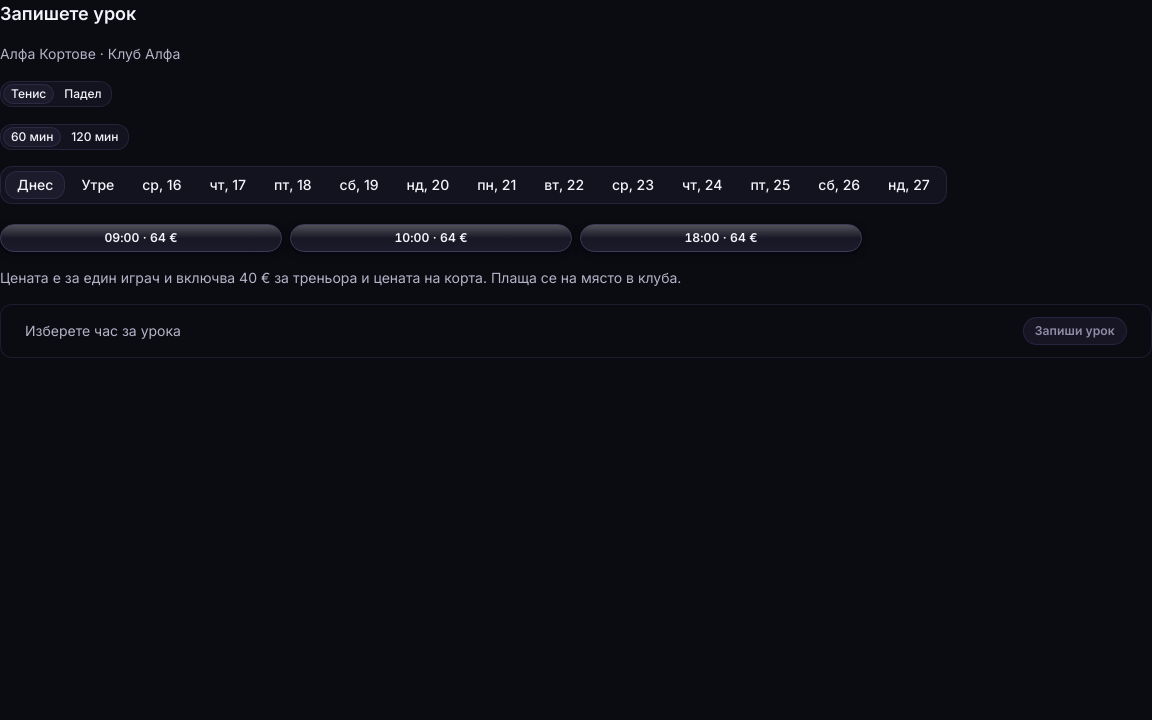
Scenario: the confirmation sheet › a lesson inside the cutoff says it can only be cancelled through the club
This screenshot has width=1152, height=720.
Click the button "10:00 · 64 €" at [431, 238], box [290, 224, 572, 252]
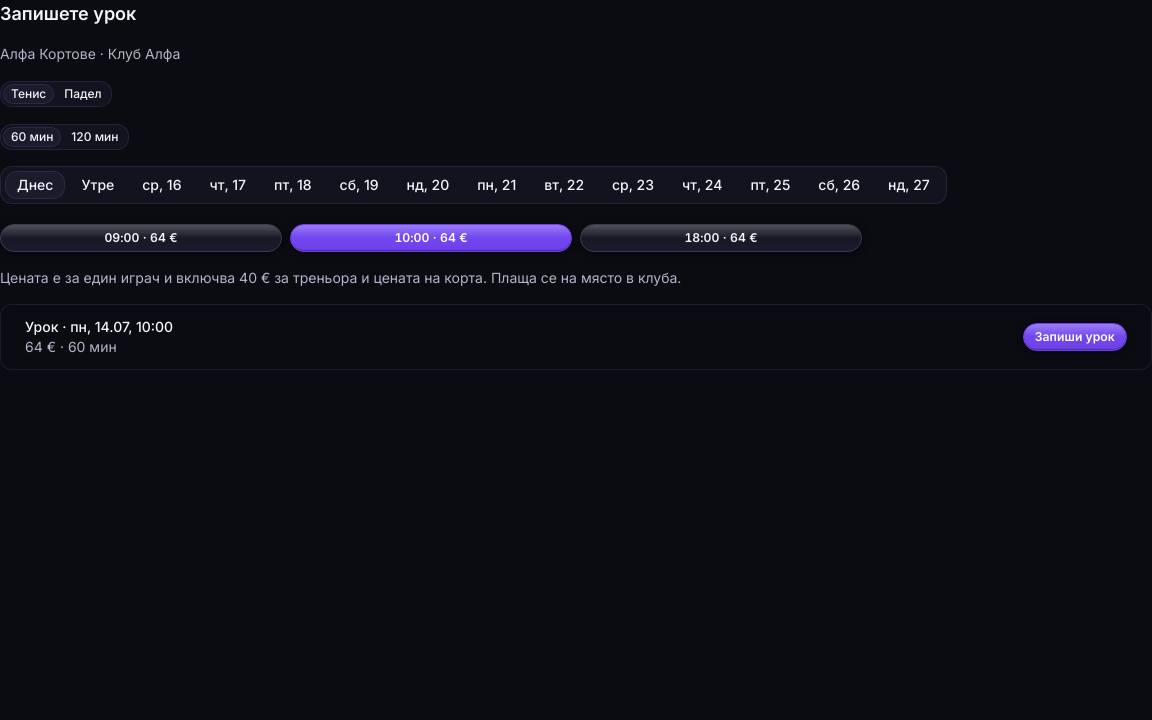
Click the button with test id "lesson-book" at [1075, 337], box [1023, 323, 1127, 351]
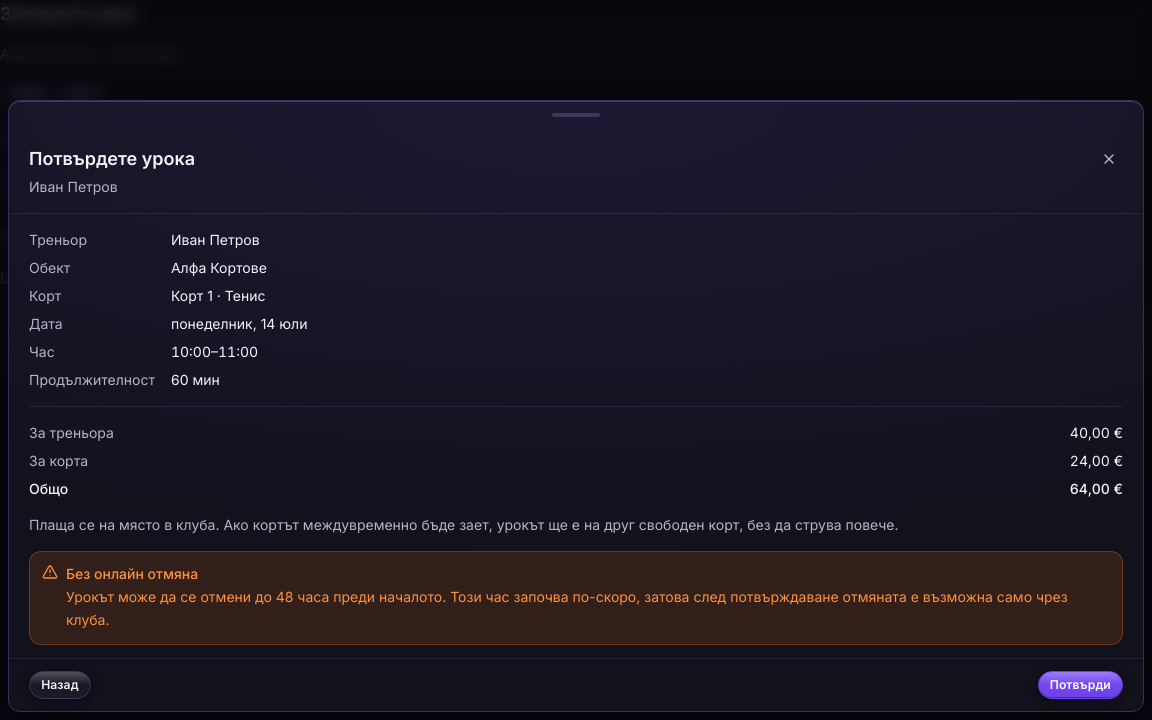
Expected: the text "Без онлайн отмяна" is shown, [66, 565, 198, 582]
Expected: the dialog shows "до 48 часа преди началото", [66, 588, 1068, 628]
